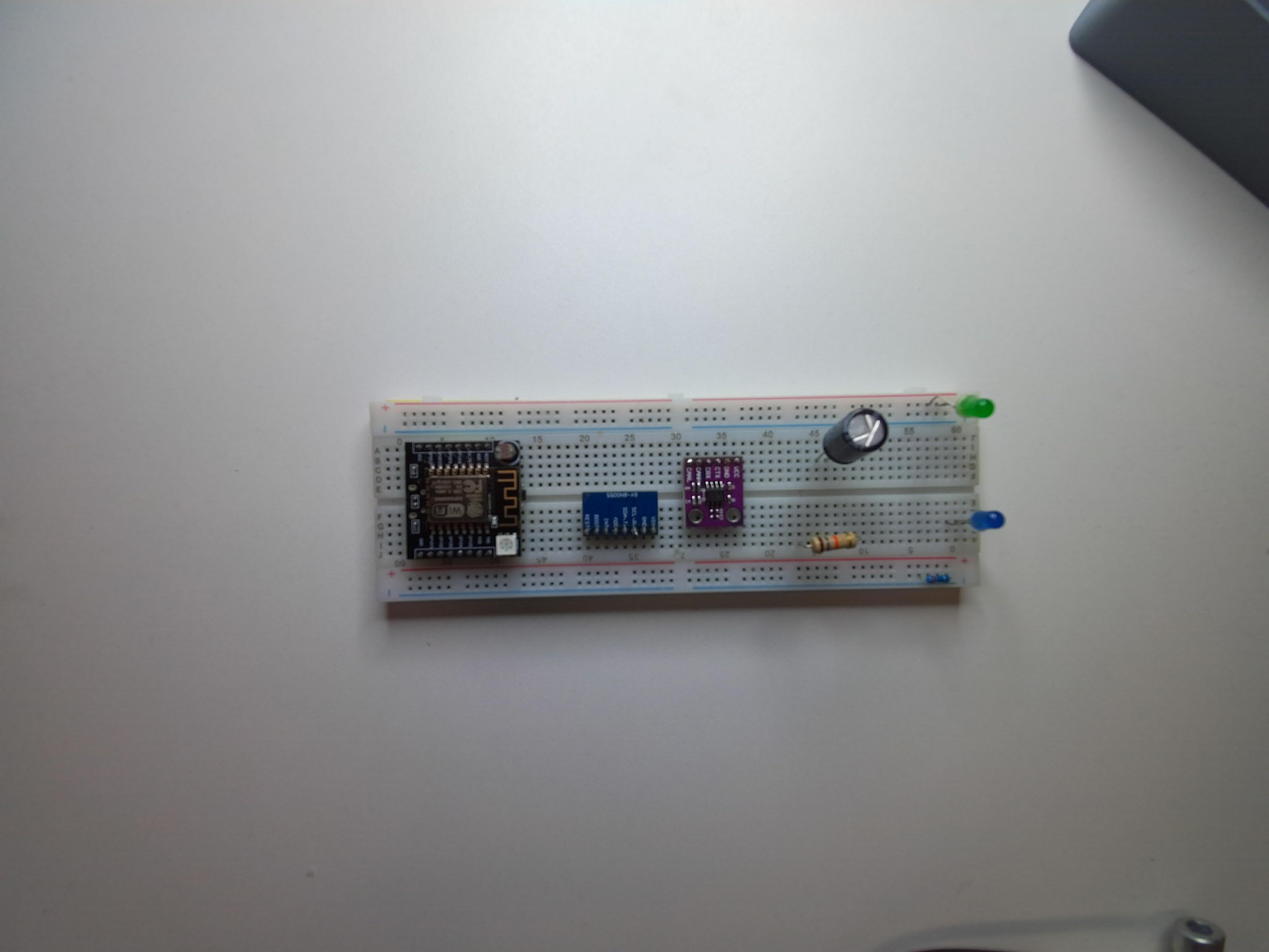base: (367, 395, 991, 610)
blue-board: (581, 488, 660, 542)
blue-led: (970, 507, 1004, 538)
capacitor: (823, 407, 889, 465)
esp: (403, 436, 524, 563)
green-led: (954, 396, 995, 420)
purple-board: (680, 452, 746, 538)
resistor-big: (808, 530, 858, 554)
resistor-small: (923, 569, 949, 585)
